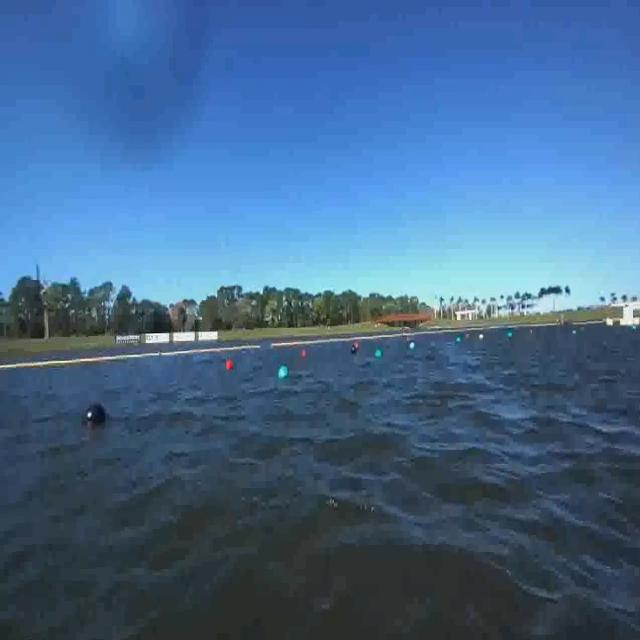black-buoy: (84, 404, 108, 427)
green-buoy: (278, 364, 290, 379)
red-buoy: (225, 360, 233, 370)
red-column-buoy: (354, 342, 360, 352)
